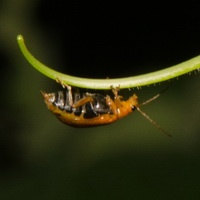insect: (41, 81, 170, 136)
